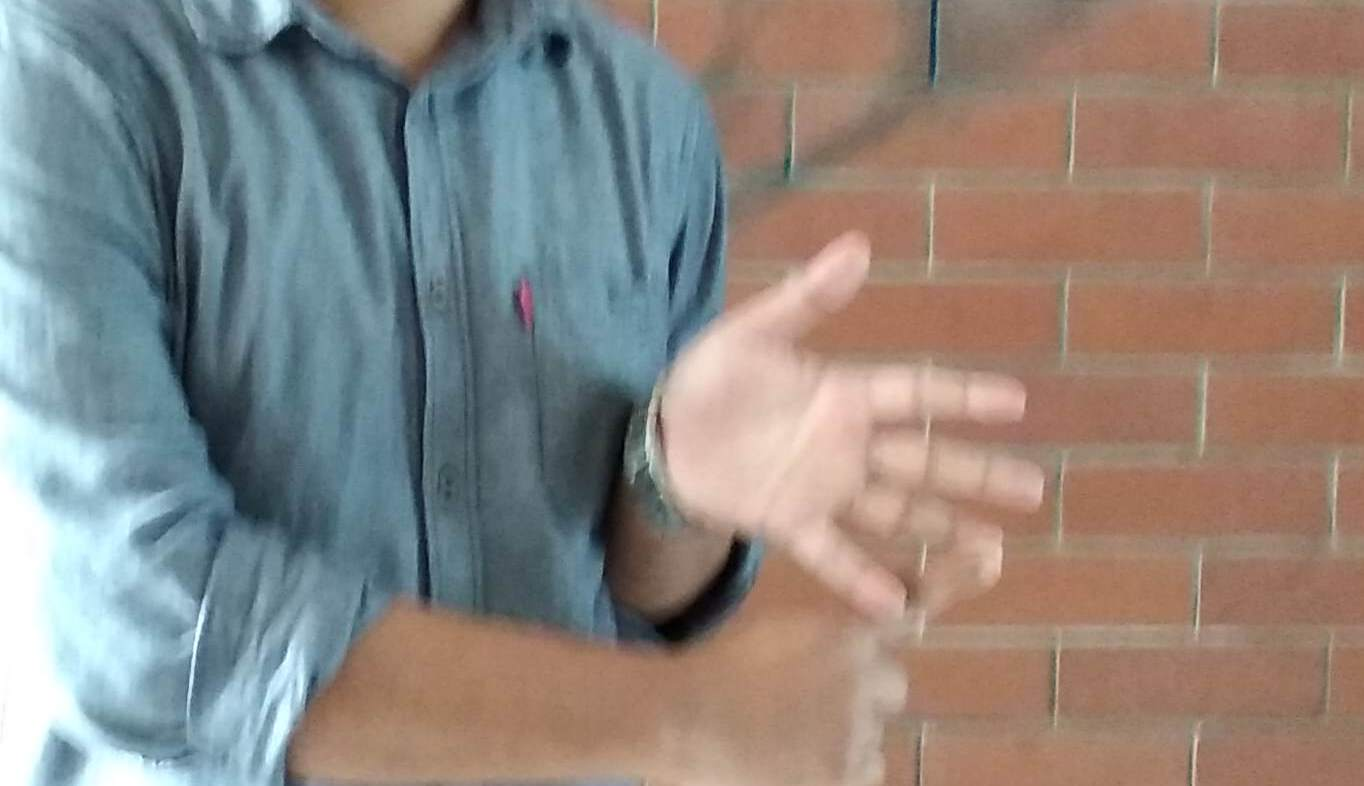e: (682, 299, 1044, 786)
